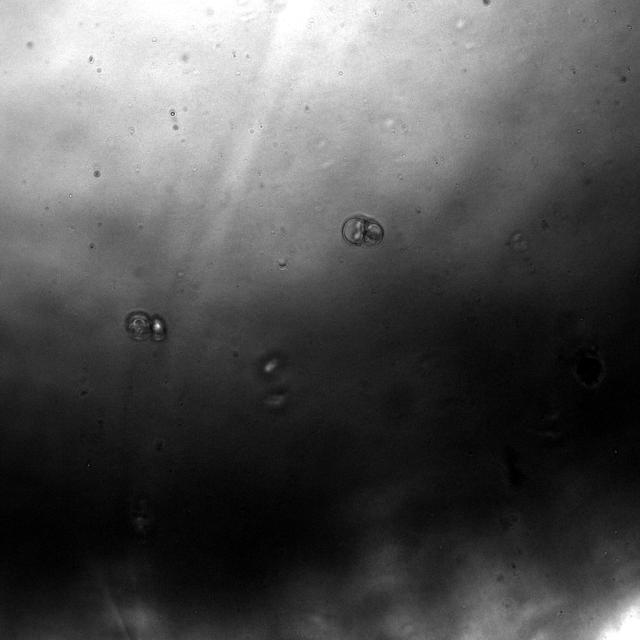organoid: (125, 311, 166, 341), (342, 217, 384, 246)
